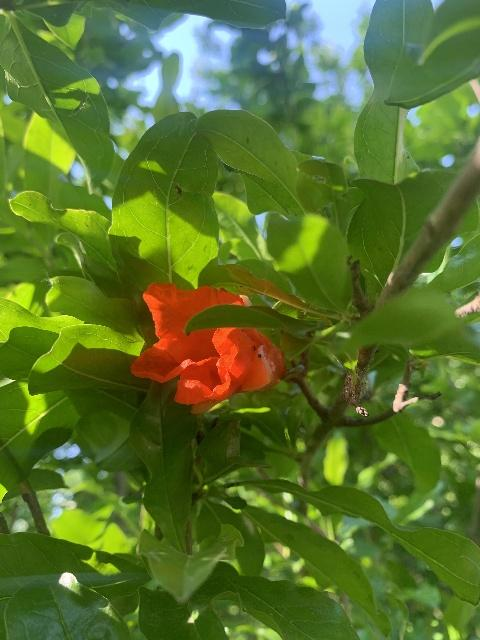flower: (131, 280, 283, 410)
